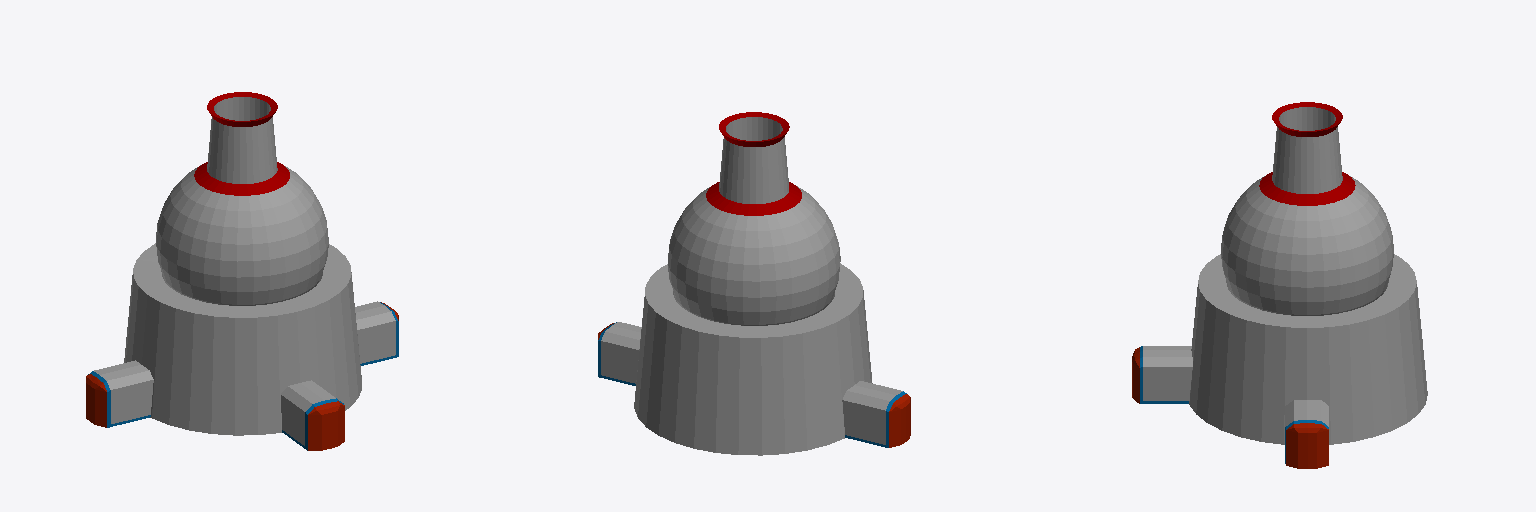
File: moon_base.obj
3 renders of one model, left to right at view 1: azimuth 30°, elevation 25°; view 2: azimuth 150°, elevation 25°; view 3: azimuth 270°, elevation 25°, orthographic.
Visible parts, largest first — view 1: Cylinder, Sphere; view 2: Cylinder, Sphere; view 3: Cylinder, Sphere.
Boxes of the visible parts, x1=… form: Cylinder: x1=86, y1=243, x2=398, y2=450; Sphere: x1=156, y1=92, x2=328, y2=305; Cylinder: x1=598, y1=263, x2=910, y2=455; Sphere: x1=668, y1=112, x2=840, y2=325; Cylinder: x1=1132, y1=254, x2=1427, y2=468; Sphere: x1=1221, y1=102, x2=1393, y2=315.
Size of the model in its own units: 2.91 by 2.55 by 2.46.